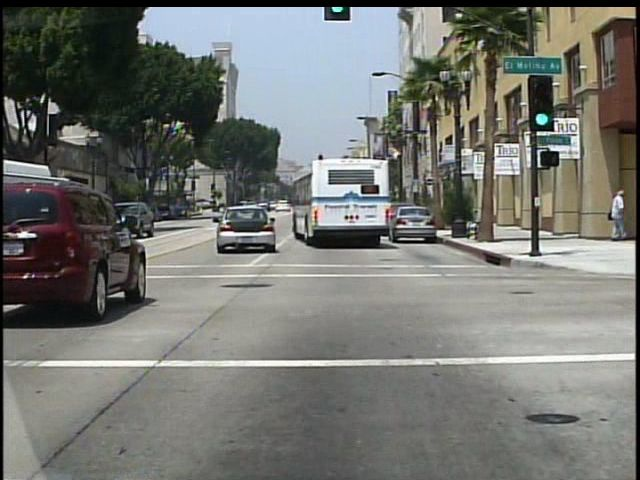person: (607, 189, 630, 243)
